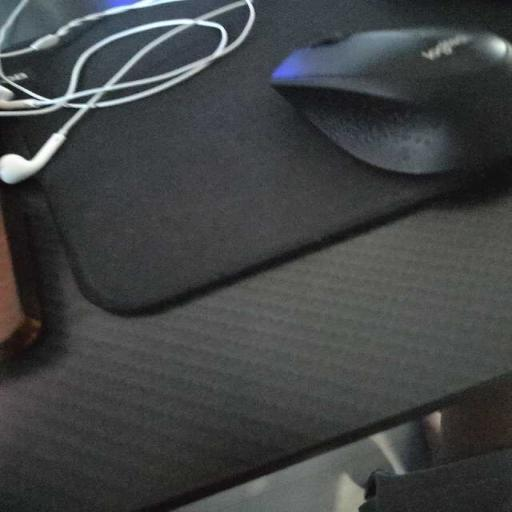person: (360, 380, 511, 511)
